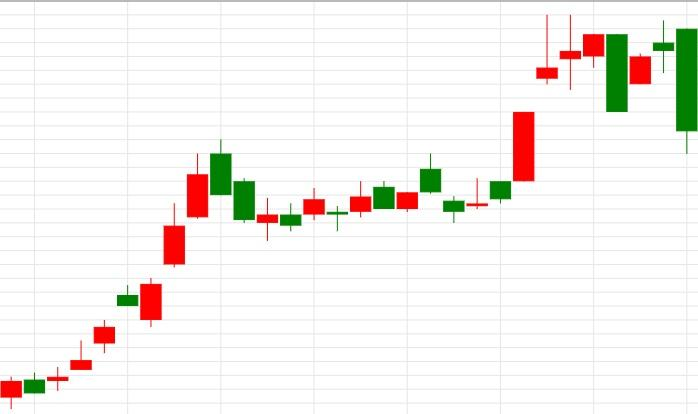bearish_engulfing_fall: (466, 15, 628, 209)
